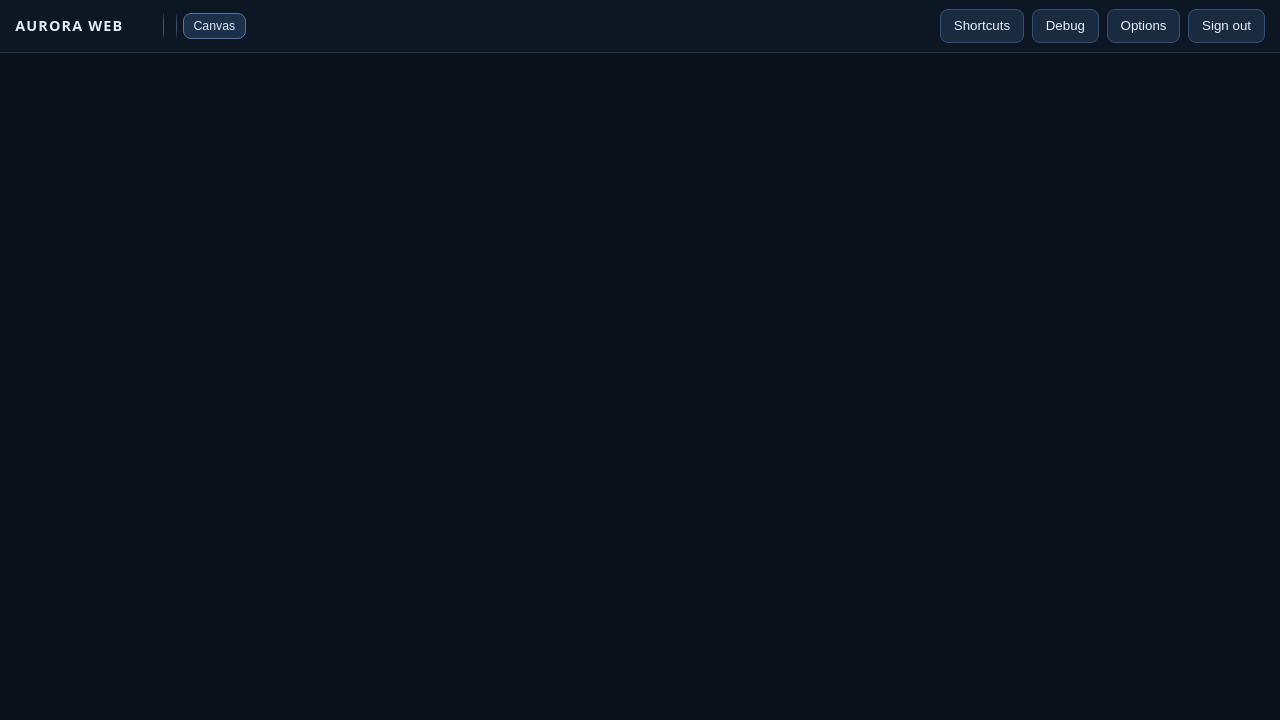
Test: WorkspaceTopbar facades injection › shows VT shortcuts in help only when corresponding VT actions are supported
Click the button "Shortcuts" at {"x": 982, "y": 26}, box [940,9,1024,43]
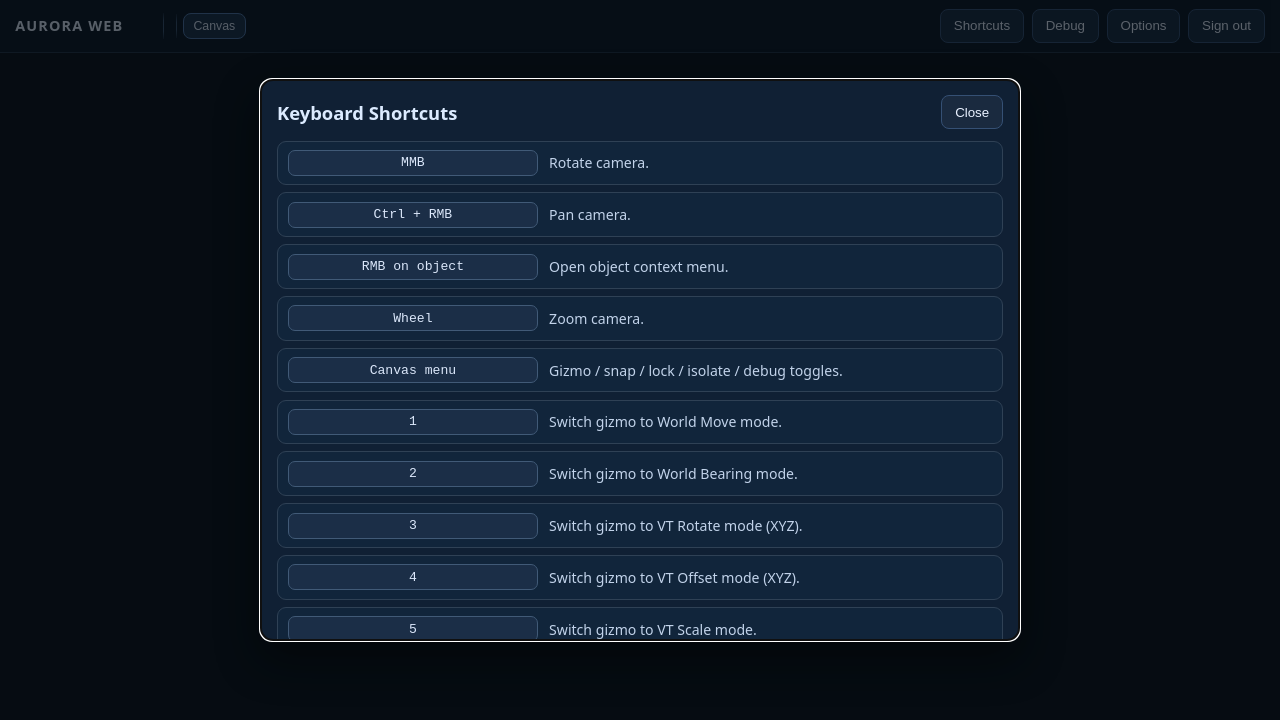
Expected: the text "Switch gizmo to VT Rotate mode (XYZ)." is shown, [549,516,802,535]
Expected: the text "Switch gizmo to VT Offset mode (XYZ)." is shown, [549,568,800,587]
Expected: the text "Switch gizmo to VT Scale mode." is shown, [549,620,757,639]
